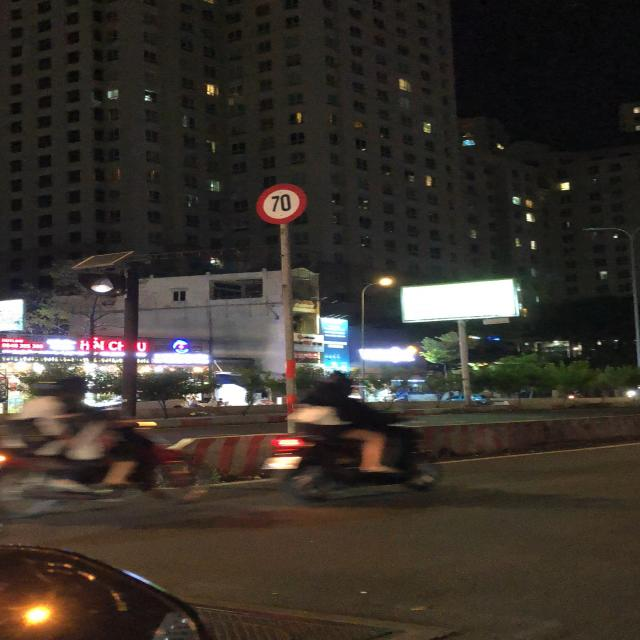Bien bao toc do toi da cho phep: (250, 181, 314, 229)
